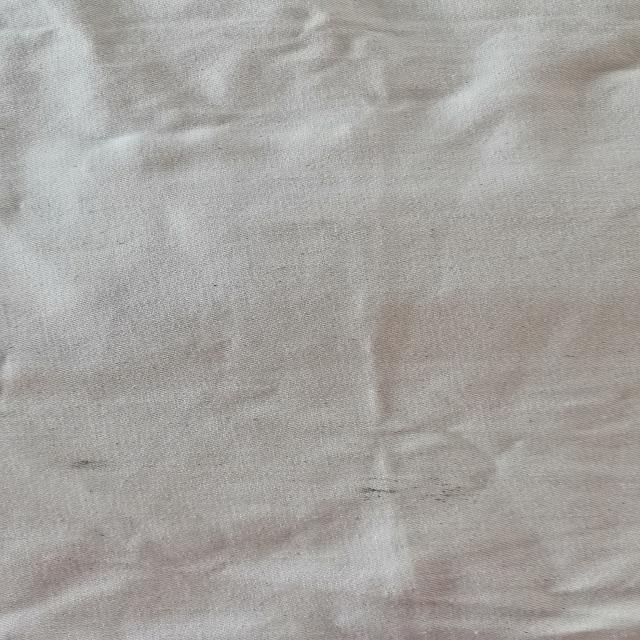taaaches: (335, 467, 499, 515), (51, 440, 130, 482)
